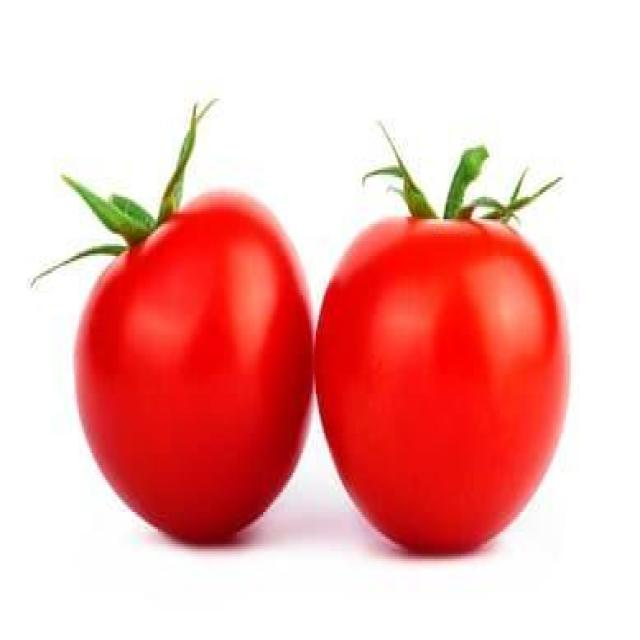Fresh_tomato: (70, 160, 322, 538), (337, 157, 569, 547)
